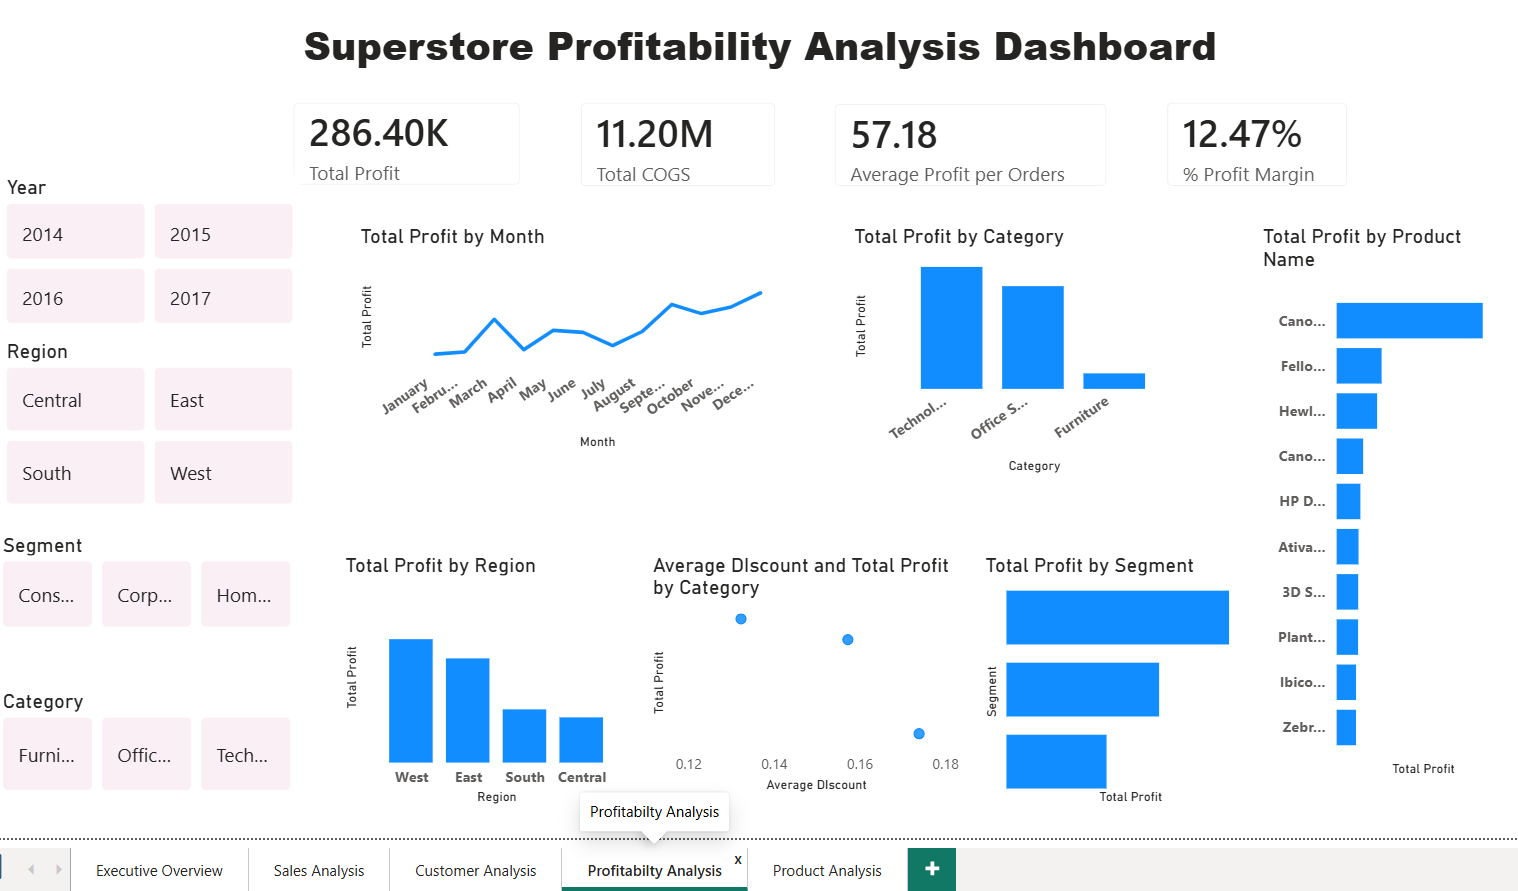

This screenshot's page, from the dashboard's own definition file:
{"tool":"powerbi","page":{"name":"Profitabilty Analysis","canvas":[1280,720],"ordinal":3},"visuals":[{"type":"cardVisual","fields":{"Data":["Measures (2).Total Profit"]},"box":[231.5,86.4,224.7,103.8],"z":0},{"type":"cardVisual","fields":{"Data":["Measures (2).Total COGS"]},"box":[472.4,86.4,197.6,104.3],"z":1000},{"type":"cardVisual","fields":{"Data":["Measures (2).Average Profit per Orders"]},"box":[686,86.8,262.1,103.8],"z":2000},{"type":"cardVisual","fields":{"Data":["Measures (2).% Profit Margin"]},"box":[964.7,86.4,185.2,104.3],"z":3000},{"type":"lineChart","fields":{"Category":["Dim_Date.Order Date.Variation.Date Hierarchy.Month"],"Y":["Measures (2).Total Profit"]},"box":[299.6,204.3,355.7,194],"z":4000},{"type":"columnChart","fields":{"Category":["Dim_Product.Category"],"Y":["Measures (2).Total Profit"]},"box":[714,204.3,284.3,214.5],"z":5000},{"type":"columnChart","fields":{"Category":["Dim_Location.Region"],"Y":["Measures (2).Total Profit"]},"box":[287.7,480,246.8,216.2],"z":6000},{"type":"clusteredBarChart","fields":{"Category":["Dim_Customer.Segment"],"Y":["Measures (2).Total Profit"]},"box":[823.8,480,236.6,216.2],"z":7000},{"type":"scatterChart","fields":{"X":["Measures (2).Average DIscount"],"Y":["Measures (2).Total Profit"],"Category":["Dim_Product.Category"]},"box":[545.5,480,267.2,206],"z":8000},{"type":"clusteredBarChart","fields":{"Category":["Fact_sales.Product Name"],"Y":["Measures (2).Total Profit"]},"box":[1057,204.3,217.9,468.1],"z":9000},{"type":"advancedSlicerVisual","fields":{"Values":["Dim_Product.Category"]},"box":[0,594,253.6,90.2],"z":10000},{"type":"advancedSlicerVisual","fields":{"Values":["Dim_Location.Region"]},"box":[3.4,301.3,250.2,144.7],"z":11000},{"type":"advancedSlicerVisual","fields":{"Values":["Dim_Customer.Segment"]},"box":[0,463,253.6,85.1],"z":12000},{"type":"advancedSlicerVisual","fields":{"Values":["Dim_Date.Order Date.Variation.Date Hierarchy.Year"]},"box":[3.4,163.4,250.2,129.4],"z":13000},{"type":"textbox","box":[0,27.4,1280.3,59],"z":14000}]}

Visuals, with their boxes on the page's 1280x720 design canvas (x1, y1, x2, y2). These are canvas units, not pixel positions in the 1518x891 screenshot, which may show the page scaled, cropped or inside an application window:
cardVisual - Measures (2).Total Profit: 232,86,456,190
cardVisual - Measures (2).Total COGS: 472,86,670,191
cardVisual - Measures (2).Average Profit per Orders: 686,87,948,191
cardVisual - Measures (2).% Profit Margin: 965,86,1150,191
lineChart - Dim_Date.Order Date.Variation.Date Hierarchy.Month x Measures (2).Total Profit: 300,204,655,398
columnChart - Dim_Product.Category x Measures (2).Total Profit: 714,204,998,419
columnChart - Dim_Location.Region x Measures (2).Total Profit: 288,480,534,696
clusteredBarChart - Dim_Customer.Segment x Measures (2).Total Profit: 824,480,1060,696
scatterChart - Measures (2).Average DIscount x Measures (2).Total Profit: 546,480,813,686
clusteredBarChart - Fact_sales.Product Name x Measures (2).Total Profit: 1057,204,1275,672
advancedSlicerVisual - Dim_Product.Category: 0,594,254,684
advancedSlicerVisual - Dim_Location.Region: 3,301,254,446
advancedSlicerVisual - Dim_Customer.Segment: 0,463,254,548
advancedSlicerVisual - Dim_Date.Order Date.Variation.Date Hierarchy.Year: 3,163,254,293
textbox: 0,27,1280,86
